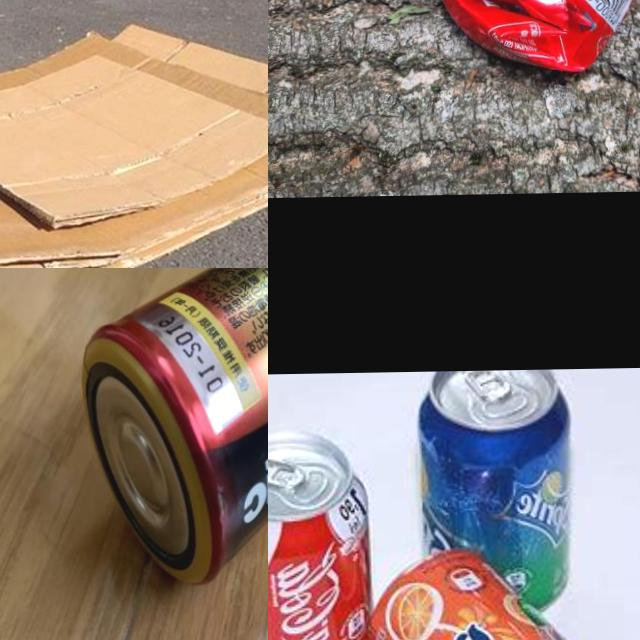aba de lata: (464, 370, 509, 402), (268, 457, 305, 490)
bateria: (73, 268, 268, 586)
lata: (418, 368, 573, 616), (365, 544, 634, 640), (268, 426, 378, 640), (408, 0, 640, 74)
papelão: (0, 19, 268, 268)
